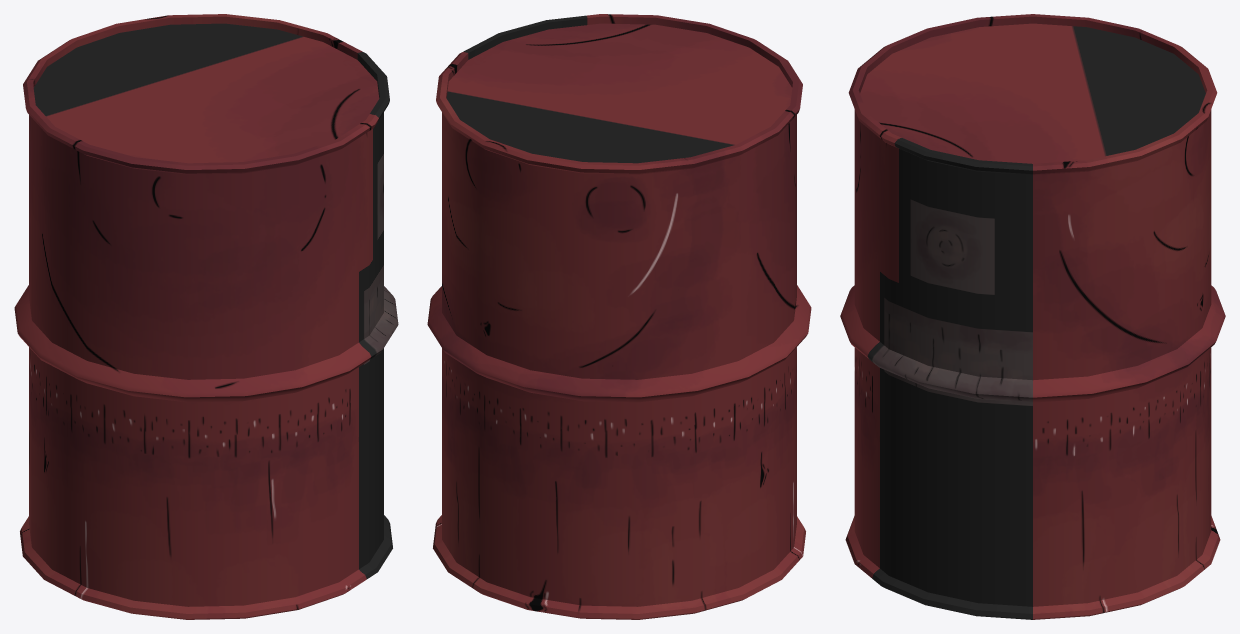
Rendered from P_Barrel_Biohazard.fbx.
3 views of the same model, side by side, from view 1: azimuth 30°, elevation 25°; view 2: azimuth 150°, elevation 25°; view 3: azimuth 270°, elevation 25° (orthographic).
Parts seen in each view (by area): view 1: P_Barrel_Biohazard; view 2: P_Barrel_Biohazard; view 3: P_Barrel_Biohazard.
Part boxes in pixels (<box>): P_Barrel_Biohazard: <box>14,14,398,619</box>; P_Barrel_Biohazard: <box>427,14,811,619</box>; P_Barrel_Biohazard: <box>840,14,1225,619</box>.
Size of the model in its own units: 1.08 by 1.4 by 1.08.
